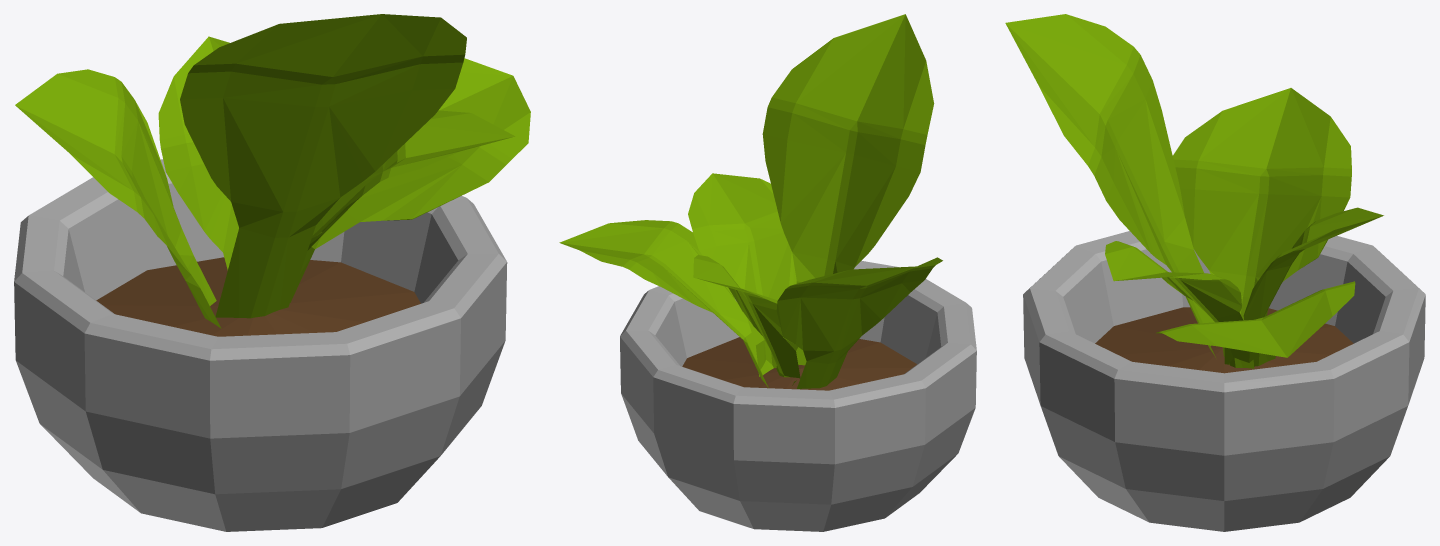
The model's file is Asset_Plant.fbx.
3 renders of one model, left to right at view 1: azimuth 30°, elevation 25°; view 2: azimuth 150°, elevation 25°; view 3: azimuth 270°, elevation 25°, orthographic. The views are drawn at different scales.
Visible parts, largest first — view 1: pCylinder3; view 2: pCylinder3; view 3: pCylinder3.
Boxes of the visible parts, left/top/right/bottom form: pCylinder3: left=14, top=14, right=530, bottom=531; pCylinder3: left=559, top=14, right=976, bottom=531; pCylinder3: left=1005, top=14, right=1425, bottom=531.
Size of the model in its own units: 2.47 by 2.58 by 2.2.
